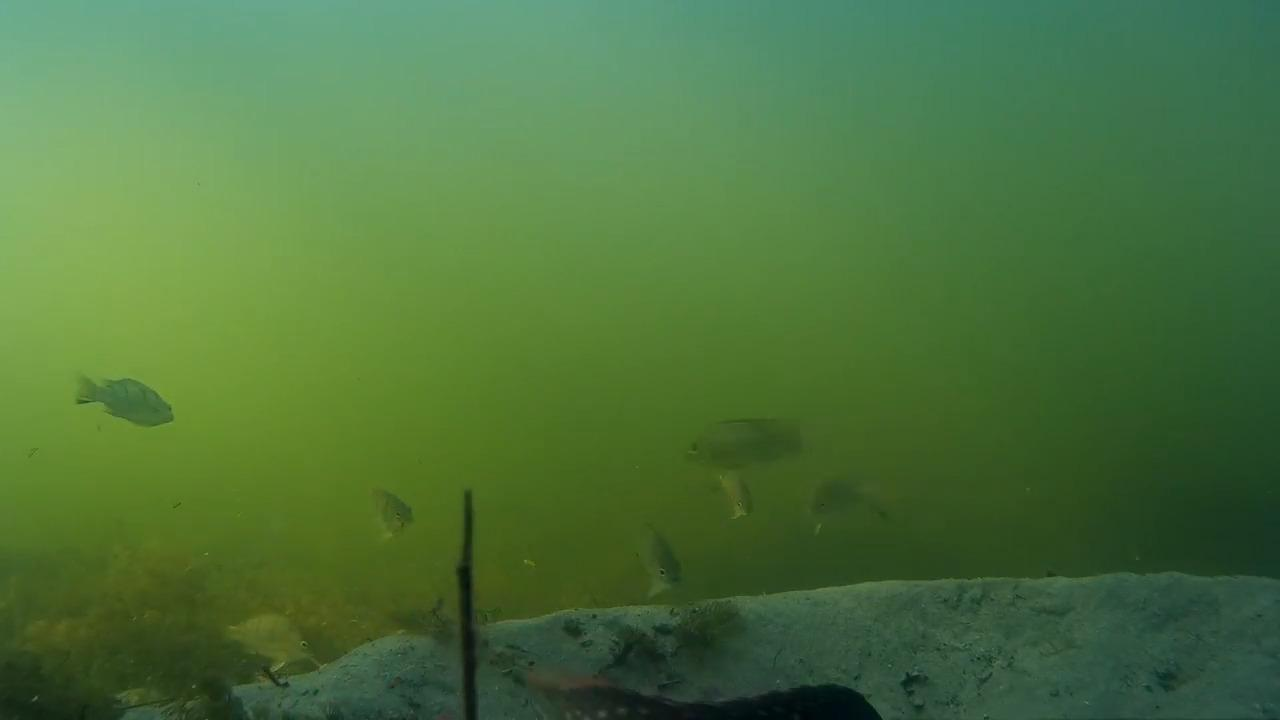Tilapia: (657, 382, 802, 474), (806, 472, 919, 552), (214, 596, 319, 676), (73, 370, 177, 444), (613, 508, 684, 602), (358, 478, 435, 554), (710, 456, 769, 516)
